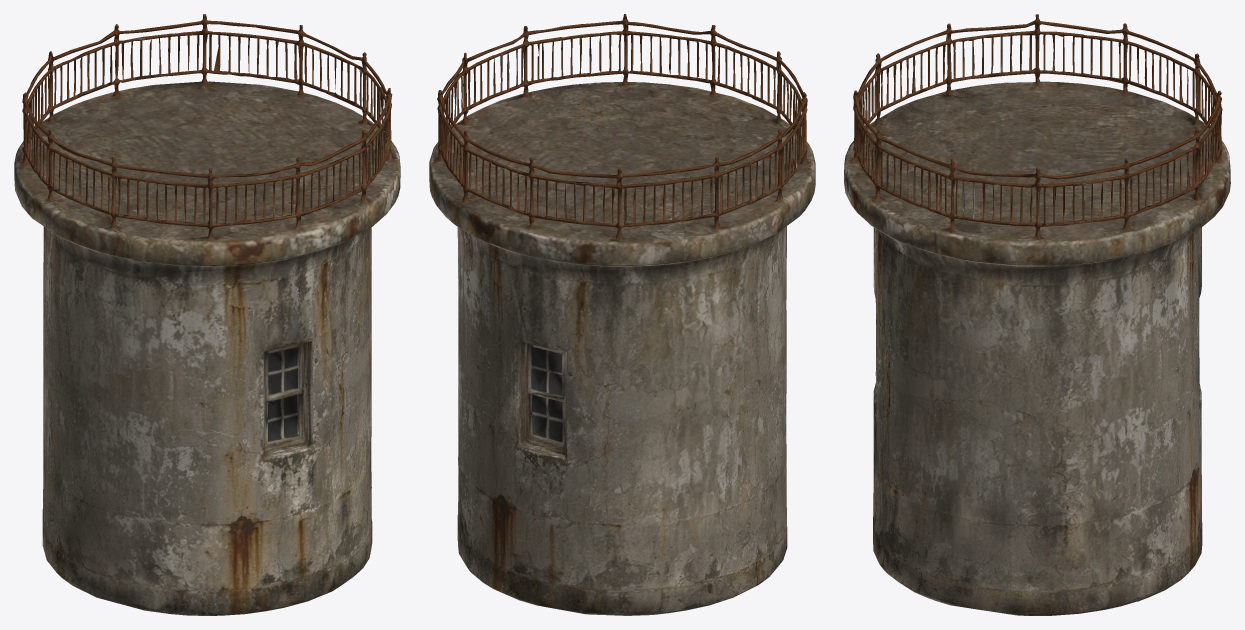
Rendered from gt_round.glb.
3 renders of one model, left to right at view 1: azimuth 30°, elevation 25°; view 2: azimuth 150°, elevation 25°; view 3: azimuth 270°, elevation 25°, orthographic.
Visible parts, largest first — view 1: gt_round; view 2: gt_round; view 3: gt_round.
Part boxes in pixels (left/top/right/bottom): gt_round: left=14, top=14, right=400, bottom=615; gt_round: left=429, top=14, right=815, bottom=615; gt_round: left=844, top=14, right=1230, bottom=615.
Bounding box in the file's own units: 1.46 × 1.9 × 1.46.
1 material, 1 textured.
